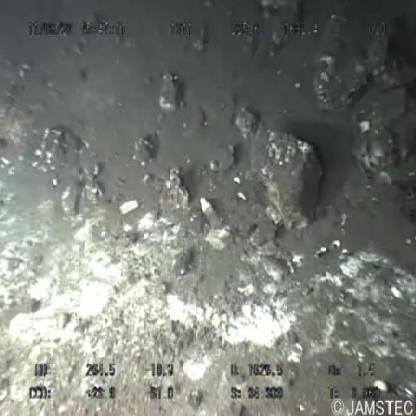Rác: (198, 194, 222, 230)
